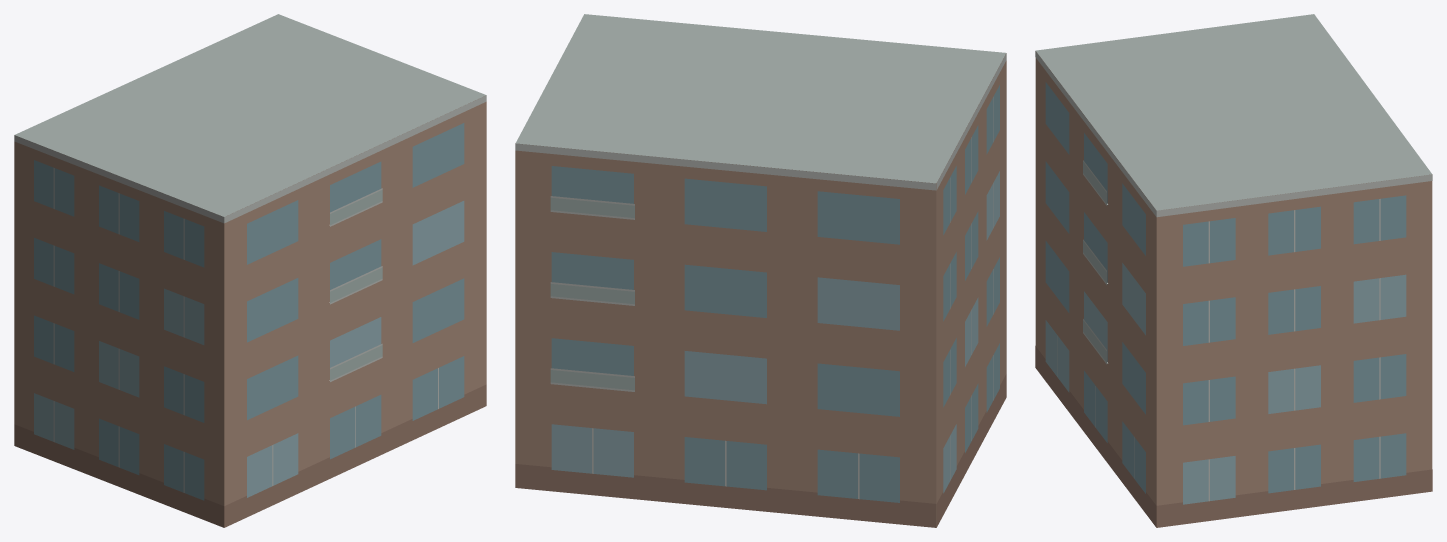
File: survey-upis-32890264.glb
3 renders of one model, left to right at view 1: azimuth 30°, elevation 25°; view 2: azimuth 150°, elevation 25°; view 3: azimuth 270°, elevation 25°, orthographic. The views are drawn at different scales.
Visible parts, largest first — view 1: survey-upis-32890264.tmp; view 2: survey-upis-32890264.tmp; view 3: survey-upis-32890264.tmp.
Boxes of the visible parts, x1,y1,x2,y2 form: survey-upis-32890264.tmp: (14, 14, 486, 527); survey-upis-32890264.tmp: (515, 14, 1006, 527); survey-upis-32890264.tmp: (1035, 14, 1432, 527).
Bounding box in the file's own units: 15.7 × 11.8 × 13.4.
